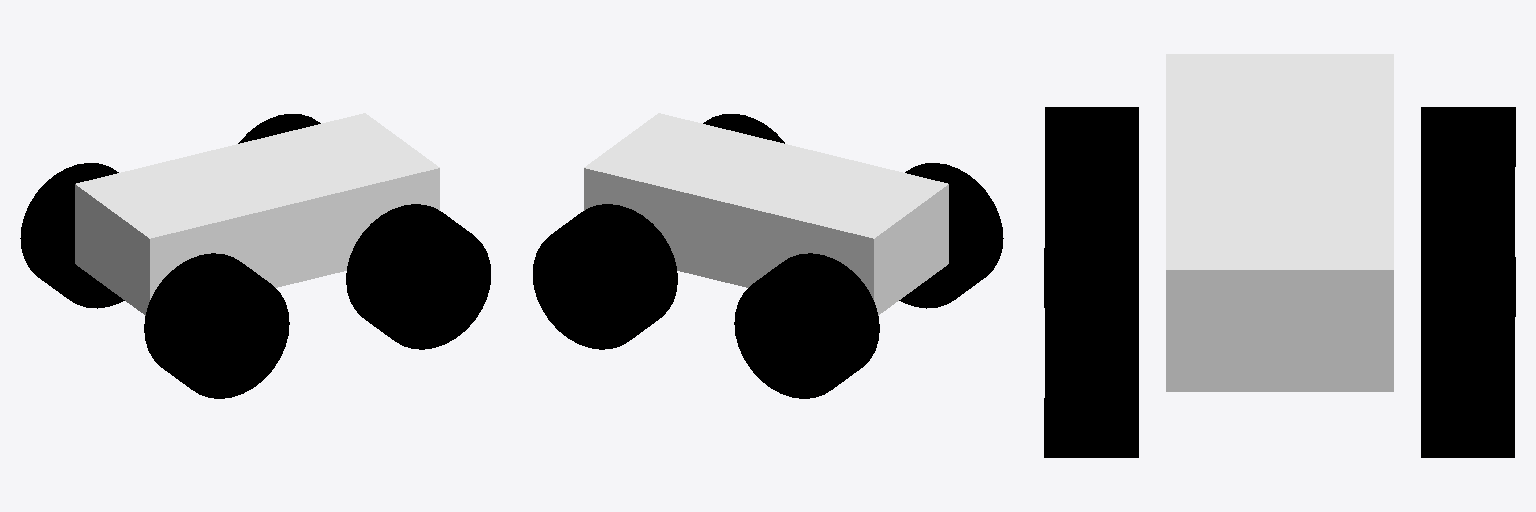
robot.urdf — wheeltec_robot:
<?xml version="1.0" ?>
<robot name="wheeltec_robot">

    <link name="base_link">
        <visual>
            <origin xyz=" -0.13 0 0.10" rpy="0 0 0" />
            <geometry>
                <box size="0.38 0.17 0.100"/>
            </geometry>
            <material name="white">
                <color rgba="1 1 1 1"/>
            </material>
        </visual>
    </link>   

    <joint name="left_wheel_joint" type="continuous">
        <origin xyz="-0.264 0.14 0.05" rpy="1.57 0 0"/>
        <parent link="base_link"/>
        <child link="left_wheel_link"/>
        <axis xyz="0 1 0"/>
    </joint>

    <link name="left_wheel_link">
        <visual>
            <origin xyz="0 0 0" rpy="0 0 0" />
            <geometry>
                <cylinder radius="0.075" length = "0.07"/>
            </geometry>
            <material name="black">
                <color rgba="0 0 0 1"/>
            </material>
        </visual>
    </link>

    <joint name="right_wheel_joint" type="continuous">
        <origin xyz="-0.264 -0.14 0.05" rpy="1.57 0 0"/>
        <parent link="base_link"/>
        <child link="right_wheel_link"/>
        <axis xyz="0 1 0"/>
    </joint>

    <link name="right_wheel_link">
        <visual>
            <origin xyz="0 0 0" rpy="0 0 0" />
            <geometry>
                <cylinder radius="0.075" length = "0.07"/>
            </geometry>
            <material name="black">
                <color rgba="0 0 0 1"/>
            </material>
        </visual>
    </link>

      <joint name="left_front_joint" type="continuous">
        <origin xyz="0.0 0.14 0.05" rpy="1.57 0 0"/>
        <parent link="base_link"/>
        <child link="left_front_link"/>
        <axis xyz="0 1 0"/>
    </joint>

    <link name="left_front_link">
        <visual>
            <origin xyz="0 0 0" rpy="0 0 0" />
            <geometry>
                <cylinder radius="0.075" length = "0.07"/>
            </geometry>
            <material name="black">
                <color rgba="0 0 0 1"/>
            </material>
        </visual>
    </link>

    <joint name="right_front_joint" type="continuous">
        <origin xyz="0.0 -0.14 0.05" rpy="1.57 0 0"/>
        <parent link="base_link"/>
        <child link="right_front_link"/>
        <axis xyz="0 1 0"/>
    </joint>

    <link name="right_front_link">
        <visual>
            <origin xyz="0 0 0" rpy="0 0 0" />
            <geometry>
                <cylinder radius="0.075" length = "0.07"/>
            </geometry>
            <material name="black">
                <color rgba="0 0 0 1"/>
            </material>
        </visual>
    </link>


</robot>

--- Facts derived from the render (not from the file) ---
The picture shows the robot from 3 angles, left to right: view 1: azimuth 30°, elevation 25°; view 2: azimuth 150°, elevation 25°; view 3: azimuth 270°, elevation 25°; orthographic projection.
Robot: wheeltec_robot — 5 links, 4 joints (4 continuous); root link base_link; default pose: all joints at 0.
Visible links, largest first — view 1: base_link, right_wheel_link, right_front_link, left_wheel_link, left_front_link; view 2: base_link, left_wheel_link, left_front_link, right_wheel_link, right_front_link; view 3: base_link, left_front_link, right_front_link, left_wheel_link, right_wheel_link.
Link boxes in pixels (x1,y1,x2,y2): base_link: (75,113,439,315); right_wheel_link: (144,253,289,398); right_front_link: (346,204,490,349); left_wheel_link: (20,163,124,308); left_front_link: (238,114,320,143); base_link: (584,113,948,315); left_wheel_link: (734,253,879,398); left_front_link: (533,204,677,349); right_wheel_link: (899,163,1003,308); right_front_link: (703,114,784,143); base_link: (1166,54,1393,391); left_front_link: (1421,257,1515,457); right_front_link: (1044,257,1138,457); left_wheel_link: (1421,107,1515,256); right_wheel_link: (1044,107,1138,307).
Bounding box of the posed robot: 0.414 × 0.3501 × 0.175 m (x, y, z).
Geometry: primitives only (box / cylinder / sphere), no mesh files.
